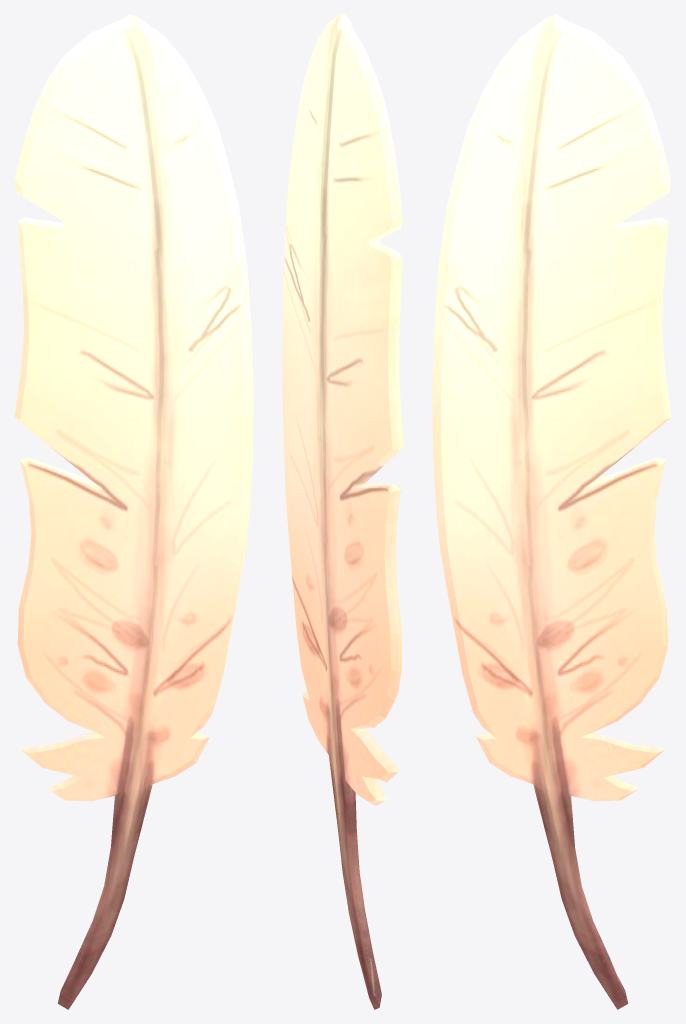
Rendered from feder.glb.
The picture shows the model from 3 angles, left to right: view 1: azimuth 90°, elevation 25°; view 2: azimuth 210°, elevation 25°; view 3: azimuth 270°, elevation 25°; orthographic projection. The views are drawn at different scales.
Visible parts, largest first — view 1: Object_2; view 2: Object_2; view 3: Object_2.
Part boxes in pixels (bbox=[...]): Object_2: bbox=[14, 14, 253, 1009]; Object_2: bbox=[282, 14, 403, 1009]; Object_2: bbox=[432, 14, 671, 1009].
Size of the model in its own units: 0.0202 by 1.35 by 0.2933.
1 material, 1 textured.
